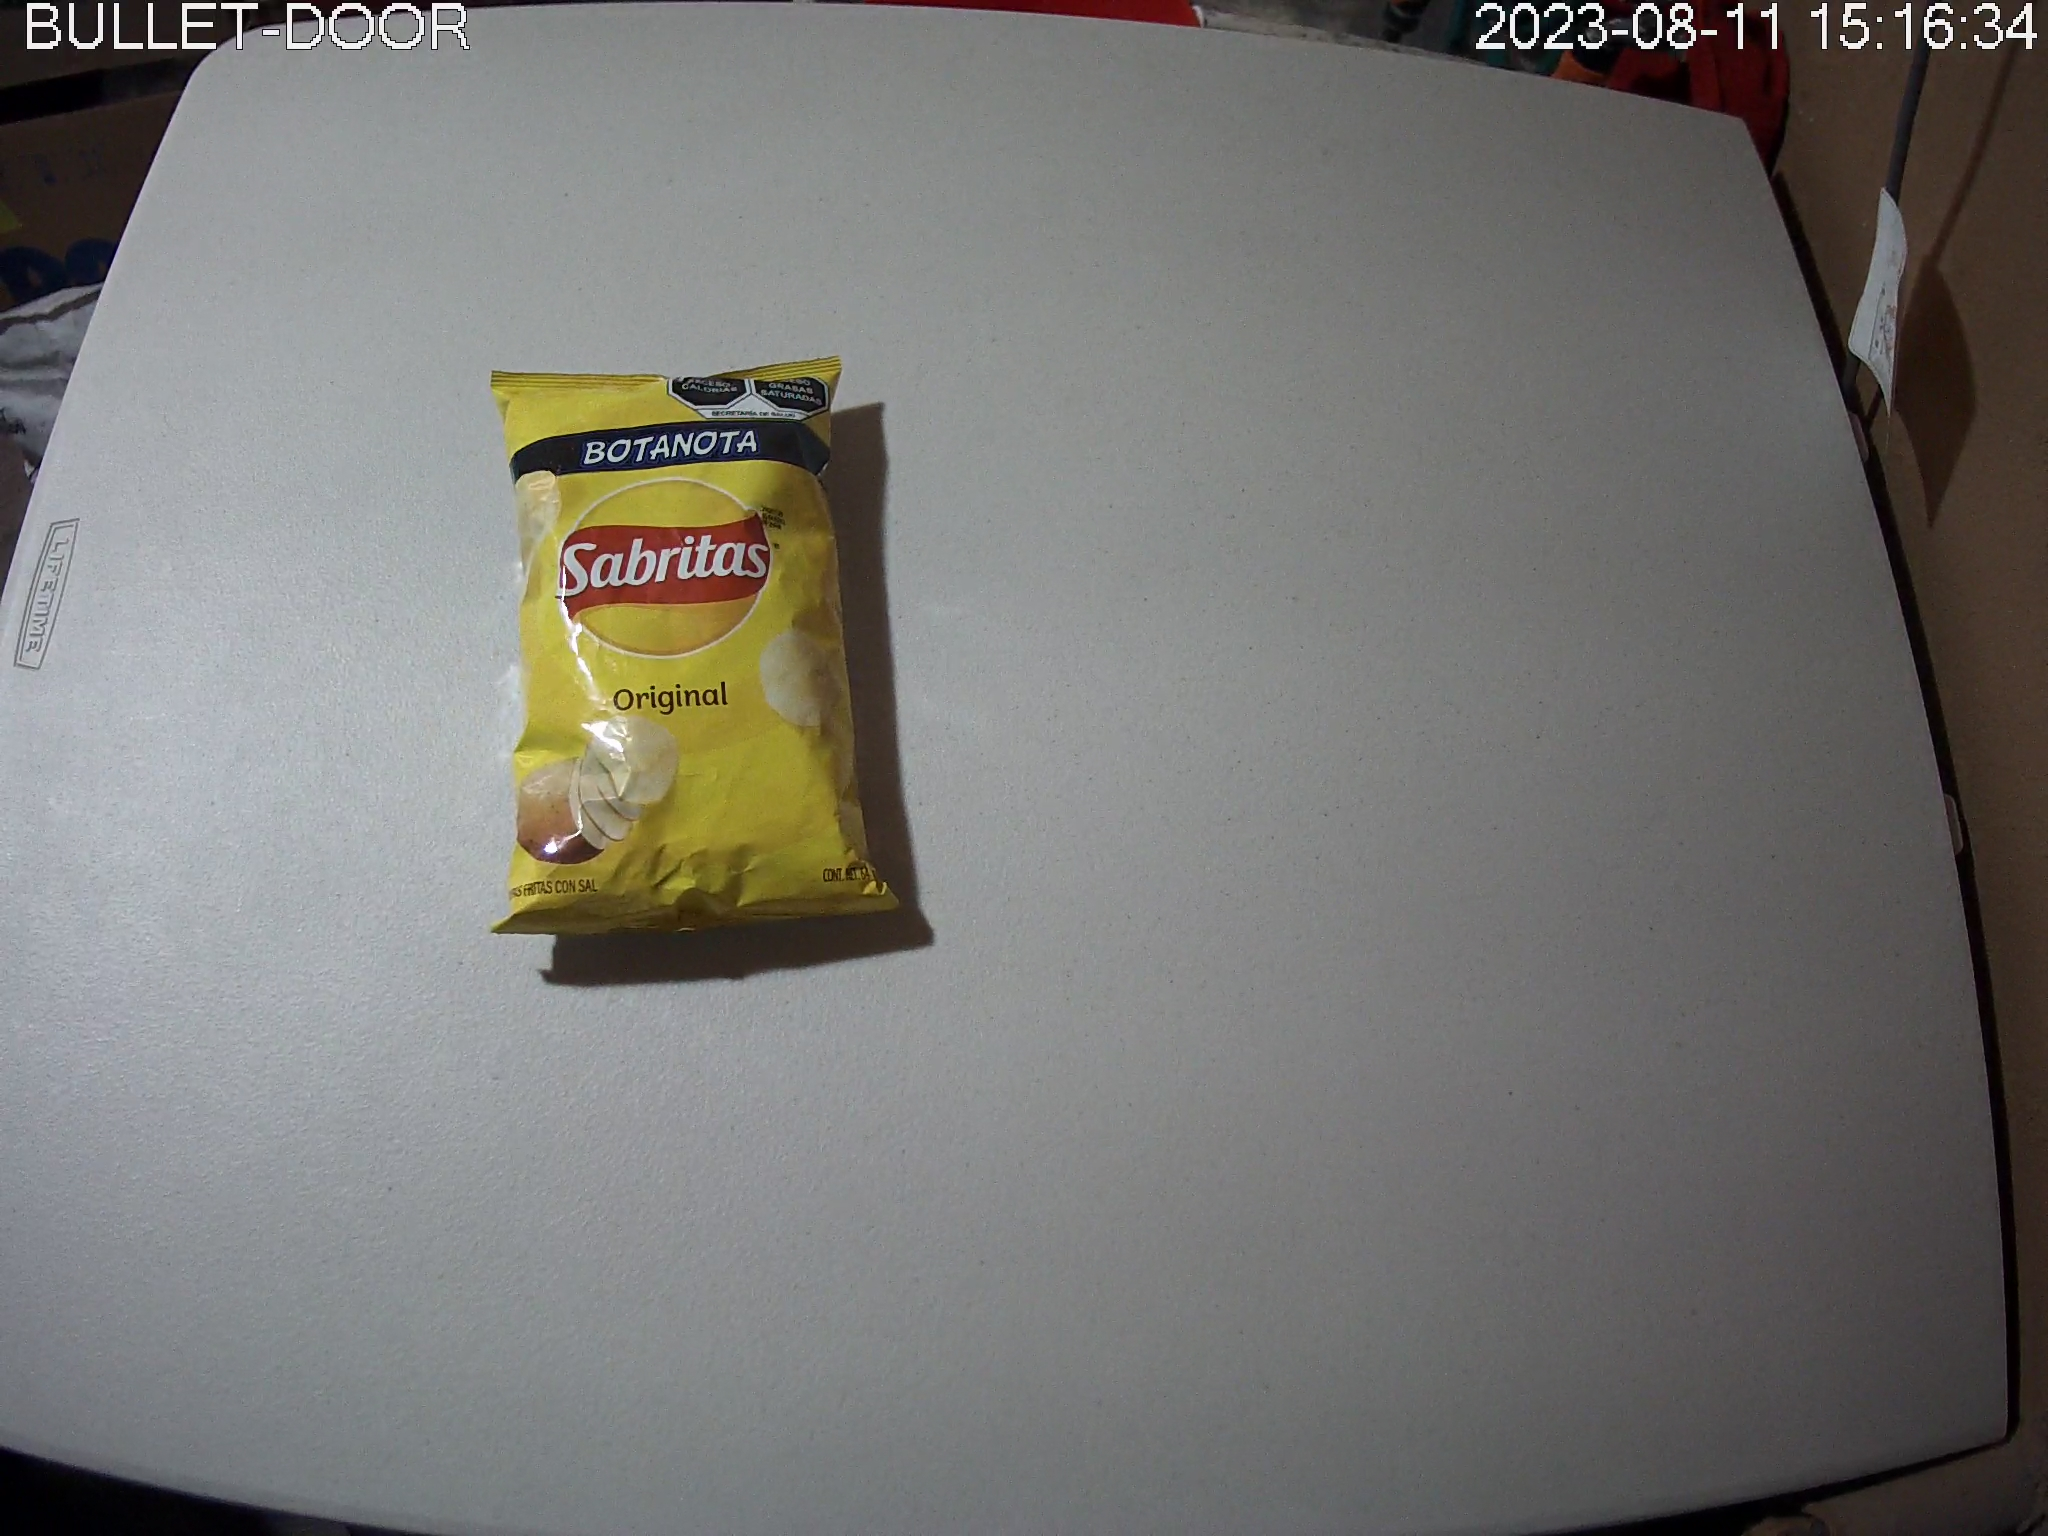Sabritas_64_F: (489, 357, 906, 941)
